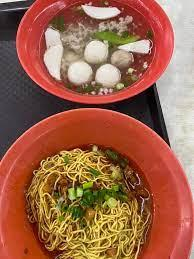Braised Crucian Carp: (0, 108, 191, 259), (15, 1, 175, 103)
